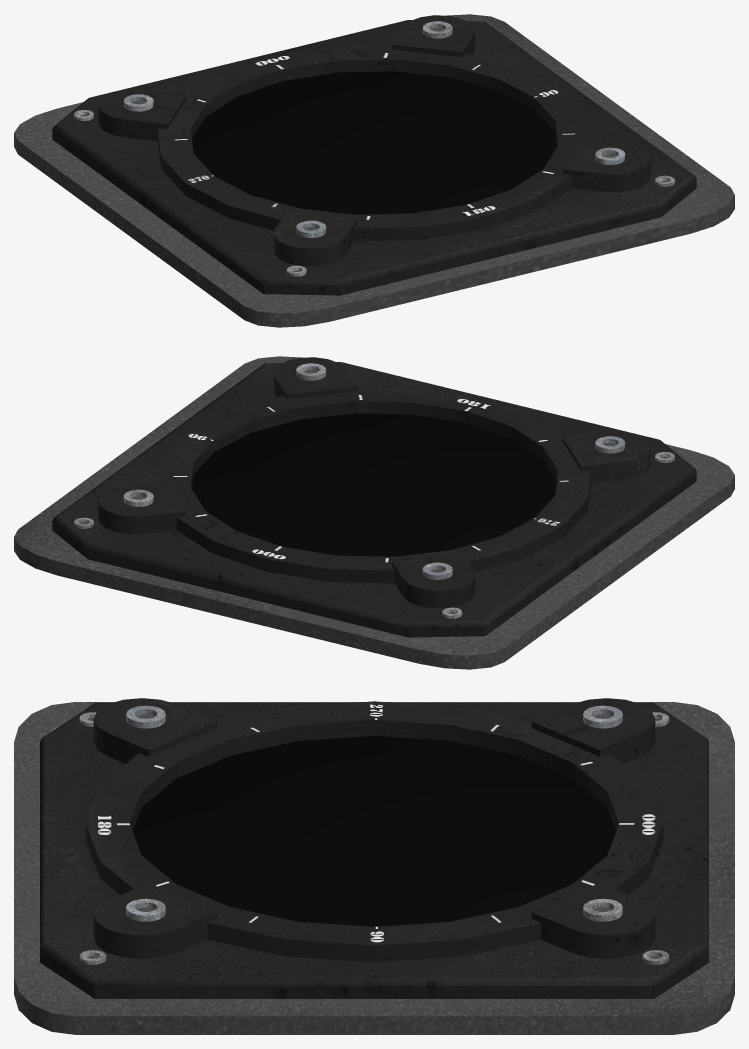
The model's file is F_Console_Radar_01.fbx.
3 renders of one model, top to bottom at view 1: azimuth 30°, elevation 25°; view 2: azimuth 150°, elevation 25°; view 3: azimuth 270°, elevation 25°, orthographic. The views are drawn at different scales.
Parts seen in each view (by area): view 1: F_Console_Radar_01; view 2: F_Console_Radar_01; view 3: F_Console_Radar_01.
Boxes of the visible parts, x1,y1,x2,y2 form: F_Console_Radar_01: [14, 14, 734, 327]; F_Console_Radar_01: [14, 356, 734, 669]; F_Console_Radar_01: [14, 698, 734, 1034].
Size of the model in its own units: 150 by 14.96 by 146.
Materials: 2 (2 with a texture image).
